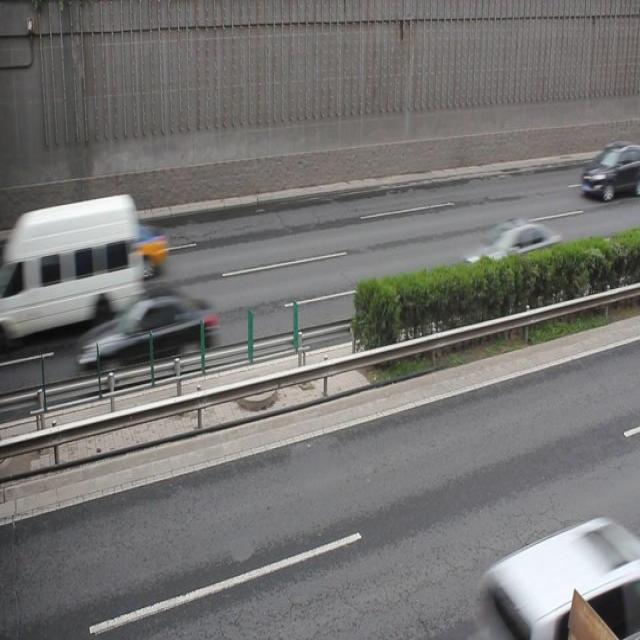car: (471, 522, 639, 640), (82, 291, 220, 372), (461, 218, 560, 279), (77, 212, 167, 276), (581, 139, 640, 200)
truck: (14, 194, 140, 335)
